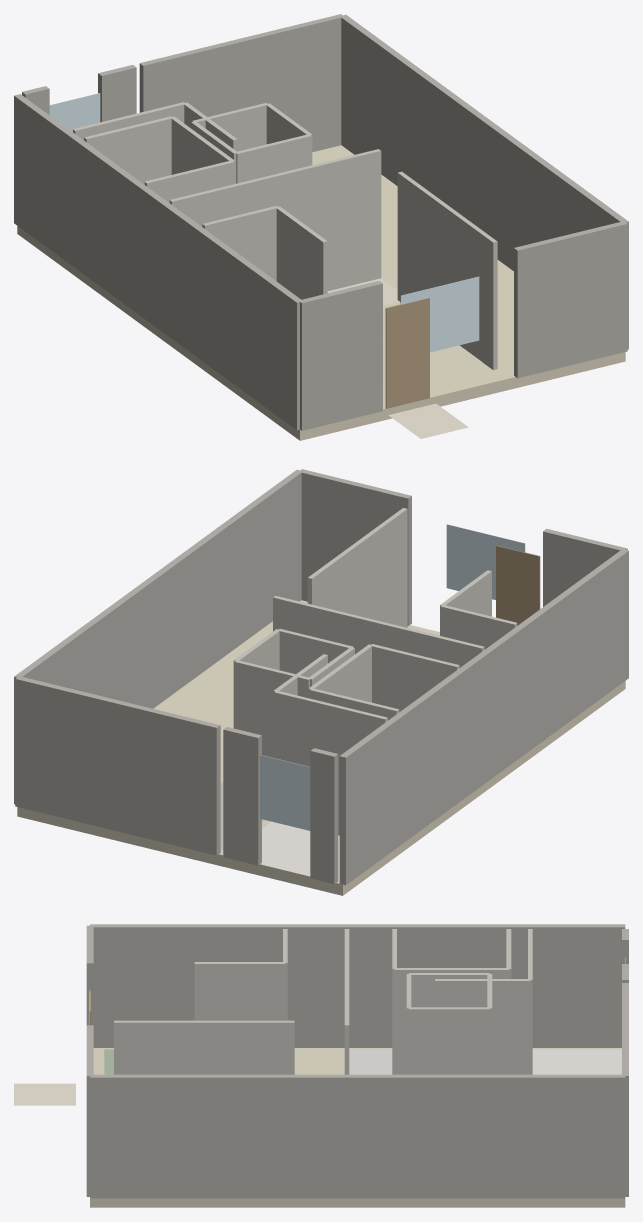
The model's file is villa_1F.glb.
The picture shows the model from 3 angles, top to bottom: view 1: azimuth 30°, elevation 25°; view 2: azimuth 150°, elevation 25°; view 3: azimuth 270°, elevation 25°; orthographic projection. The views are drawn at different scales.
Visible parts, largest first — view 1: ExtWall_W, ExtWall_E, ExtWall_N_E, ExtWall_S_E, ExtWall_S_W, Slab_1F, IntWall_Divider, IntWall_Corr_S, Door_Main, IntWall_Entry_N, IntWall_Bath_E, IntWall_Stair_N (+14 smaller); view 2: ExtWall_W, ExtWall_E, ExtWall_N_E, Slab_1F, IntWall_Divider, ExtWall_S_E, IntWall_Kitchen_S, ExtWall_N_W2, ExtWall_N_W1, IntWall_Corr_S, IntWall_Stair_S, IntWall_Elev.002 (+14 smaller); view 3: ExtWall_E, ExtWall_W, IntWall_Divider, Slab_1F, IntWall_Elev.001, IntWall_Bath_E, IntWall_Kitchen_E, Floor_Kitchen, IntWall_Stair_E, Floor_Annex, IntWall_Elev, Floor_Corridor (+8 smaller).
Boxes of the visible parts, left/top/right/bottom form: ExtWall_W: left=14, top=94, right=301, bottom=430; ExtWall_E: left=340, top=14, right=628, bottom=349; ExtWall_N_E: left=139, top=14, right=343, bottom=152; ExtWall_S_E: left=514, top=221, right=627, bottom=378; ExtWall_S_W: left=298, top=281, right=382, bottom=430; Slab_1F: left=17, top=145, right=625, bottom=440; IntWall_Divider: left=397, top=171, right=497, bottom=369; IntWall_Corr_S: left=169, top=156, right=350, bottom=290; Door_Main: left=385, top=298, right=429, bottom=408; IntWall_Entry_N: left=261, top=149, right=381, bottom=285; IntWall_Bath_E: left=276, top=206, right=327, bottom=299; IntWall_Stair_N: left=84, top=116, right=172, bottom=184; ExtWall_W: left=339, top=550, right=628, bottom=885; ExtWall_E: left=14, top=469, right=302, bottom=804; ExtWall_N_E: left=15, top=676, right=220, bottom=855; Slab_1F: left=17, top=600, right=625, bottom=895; IntWall_Divider: left=307, top=508, right=407, bottom=627; ExtWall_S_E: left=298, top=469, right=411, bottom=625; IntWall_Kitchen_S: left=274, top=690, right=387, bottom=835; ExtWall_N_W2: left=223, top=727, right=261, bottom=865; ExtWall_N_W1: left=310, top=748, right=338, bottom=884; IntWall_Corr_S: left=304, top=604, right=484, bottom=667; IntWall_Stair_S: left=370, top=644, right=459, bottom=711; IntWall_Elev.002: left=234, top=660, right=309, bottom=757; ExtWall_E: left=90, top=1074, right=625, bottom=1198; ExtWall_W: left=90, top=924, right=625, bottom=1047; IntWall_Divider: left=114, top=1020, right=294, bottom=1074; Slab_1F: left=90, top=1048, right=625, bottom=1207; IntWall_Elev.001: left=409, top=1007, right=489, bottom=1074; IntWall_Bath_E: left=194, top=962, right=285, bottom=1020; IntWall_Kitchen_E: left=435, top=979, right=530, bottom=1074; Floor_Kitchen: left=532, top=1049, right=621, bottom=1074; IntWall_Stair_E: left=394, top=968, right=508, bottom=1074; Floor_Annex: left=14, top=1083, right=75, bottom=1105; IntWall_Elev: left=409, top=973, right=489, bottom=1007; Floor_Corridor: left=349, top=1049, right=392, bottom=1074.
Bounding box in the file's own units: 7.62 × 3.05 × 12.92.
